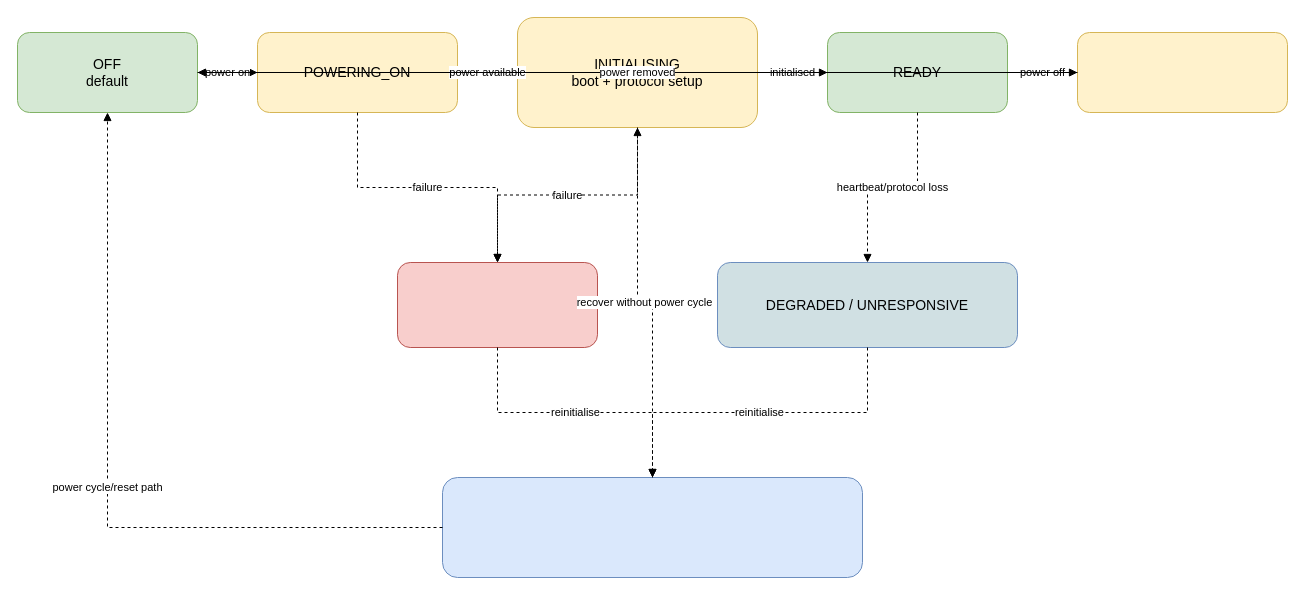
Image size: 1305x595. Some labels were removed from this diagram. Each missing label, with the centre of its shape:
ERROR: (497,305)
POWERING_OFF: (1182,72)
RECOVERING / REINITIALISE reconnect -> reset -> power cycle policy TBD: (652,527)
